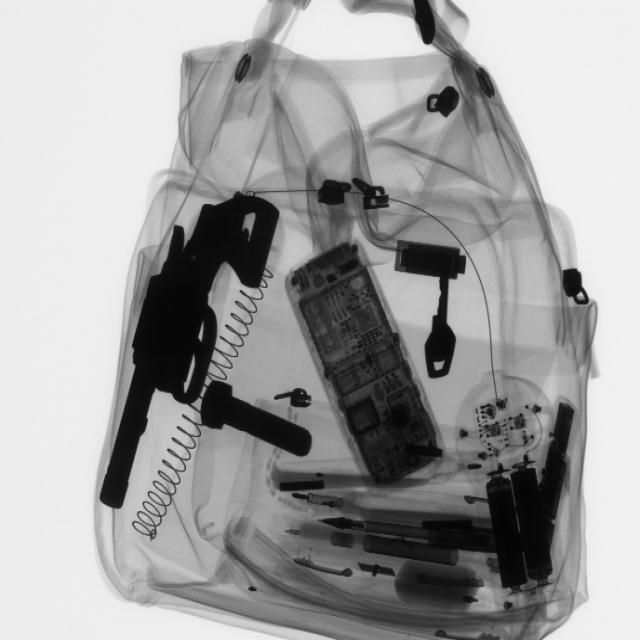GUN: (100, 194, 277, 522)
